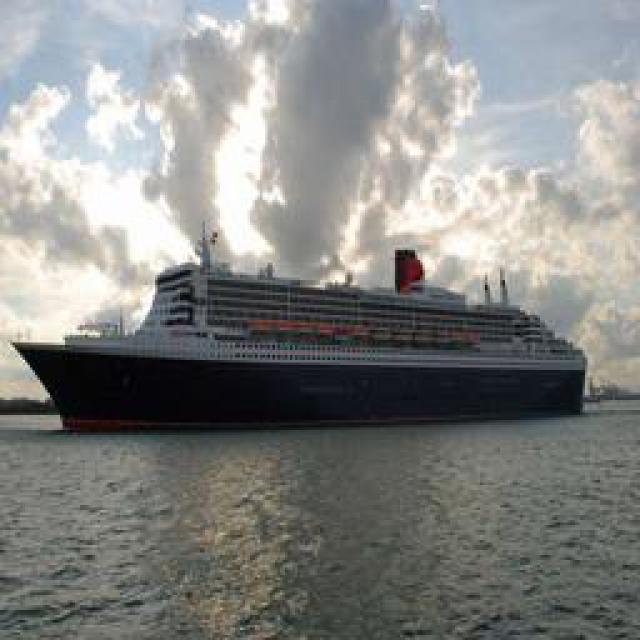Ship: (21, 249, 586, 432)
